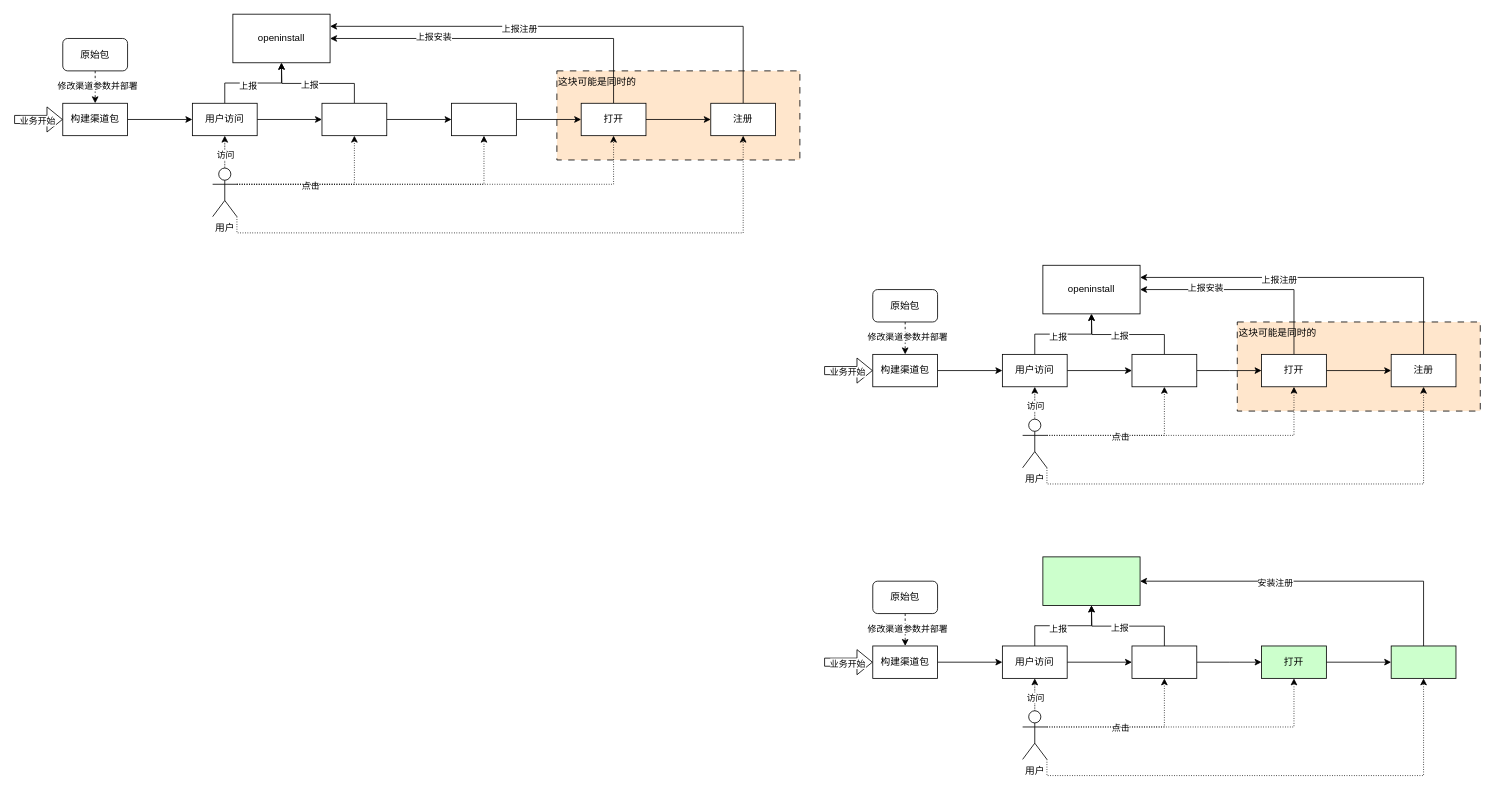
This 1494x796 diagram has some shape labels left out. Each missing label, with the centre of its shape:
"下载安装" goes at pixel 483 119.
"填写code" goes at pixel 1423 661.
"点击下载 (安装)" goes at pixel 1164 370.
"用户下载 (安装)" goes at pixel 1164 661.
"用户点击" goes at pixel 354 119.
"自建统计服务 【海内+cdn】" goes at pixel 1091 580.
